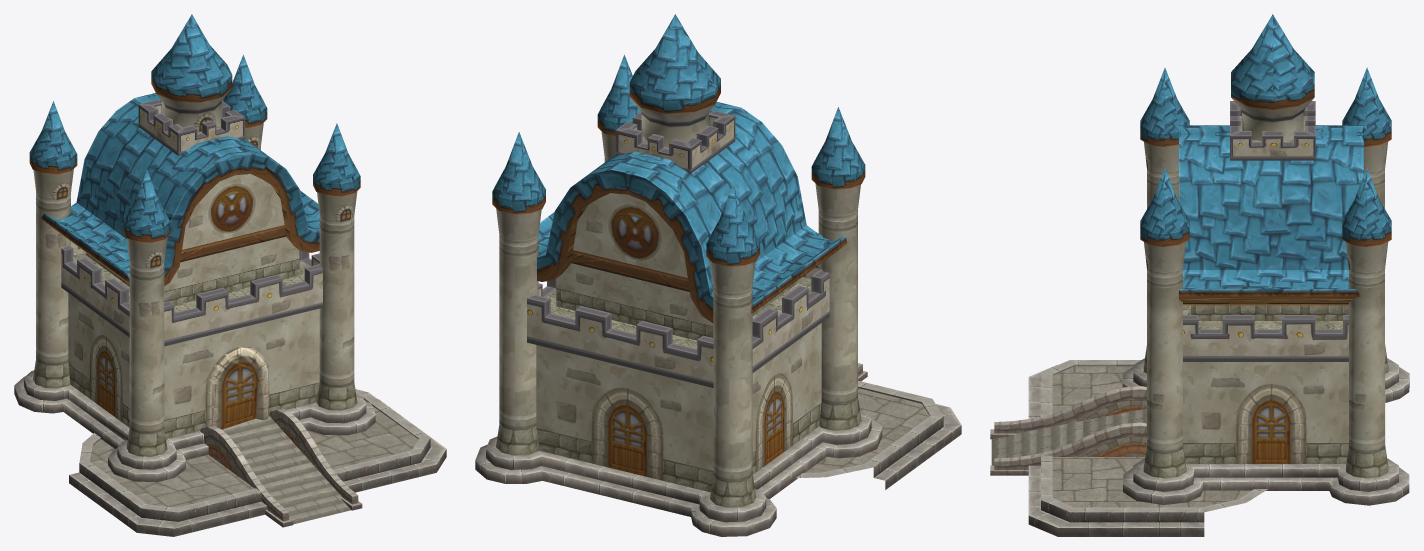
Rendered from jiayuan.FBX.
3 renders of one model, left to right at view 1: azimuth 30°, elevation 25°; view 2: azimuth 150°, elevation 25°; view 3: azimuth 270°, elevation 25°, orthographic. The views are drawn at different scales.
Parts seen in each view (by area): view 1: Group63, Plane02, UB97; view 2: Group63; view 3: Group63, UB97, Plane02.
Part boxes in pixels (x1,y1,x2,y2): Group63: (14,14,446,536); Plane02: (222,416,350,524); UB97: (199,408,362,527); Group63: (475,14,961,536); Group63: (1028,14,1409,536); UB97: (990,386,1146,475); Plane02: (991,408,1146,465).
Size of the model in its own units: 764 by 962 by 829.
